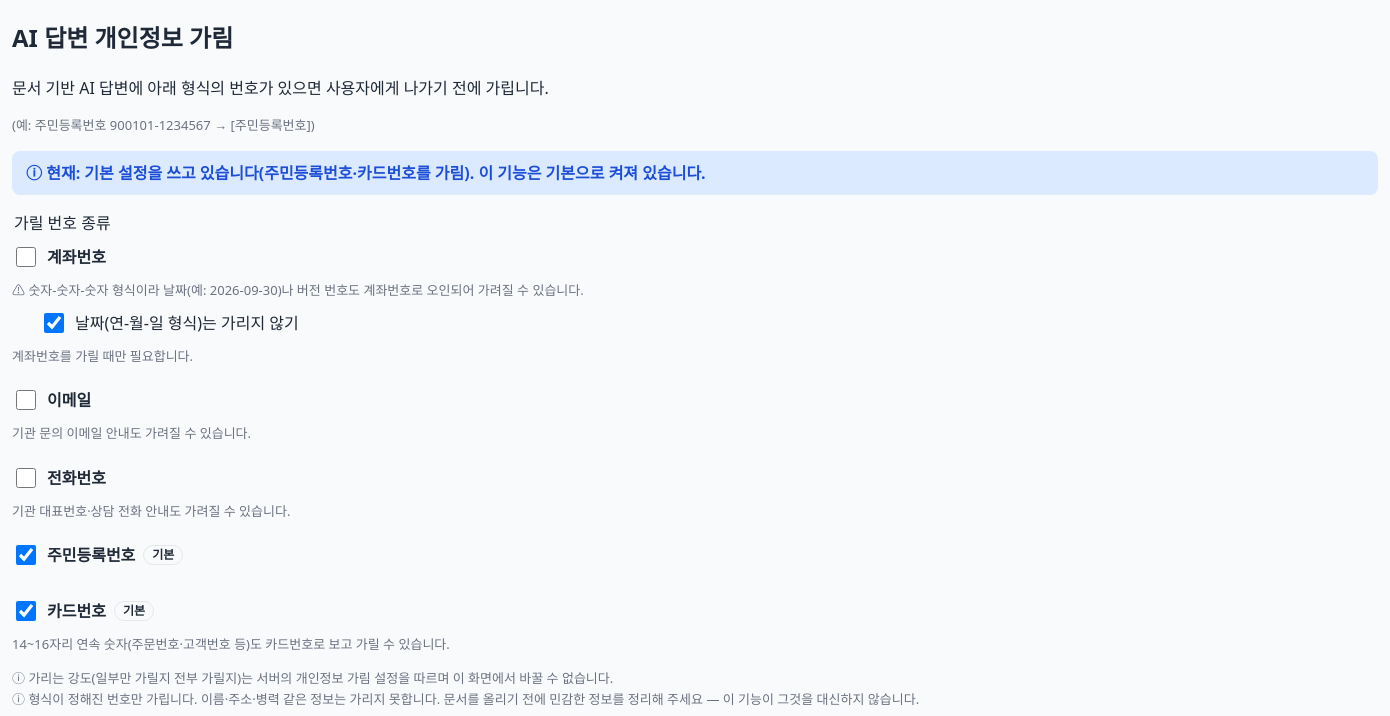
GR-3 AI 답변 개인정보 가림 설정 › 종류를 늘리기만 하는 저장은 확인 없이 PUT한다
Click the checkbox labelled "전화번호" at coordinates (26, 478), box [16, 468, 36, 488]
(page scrolled)
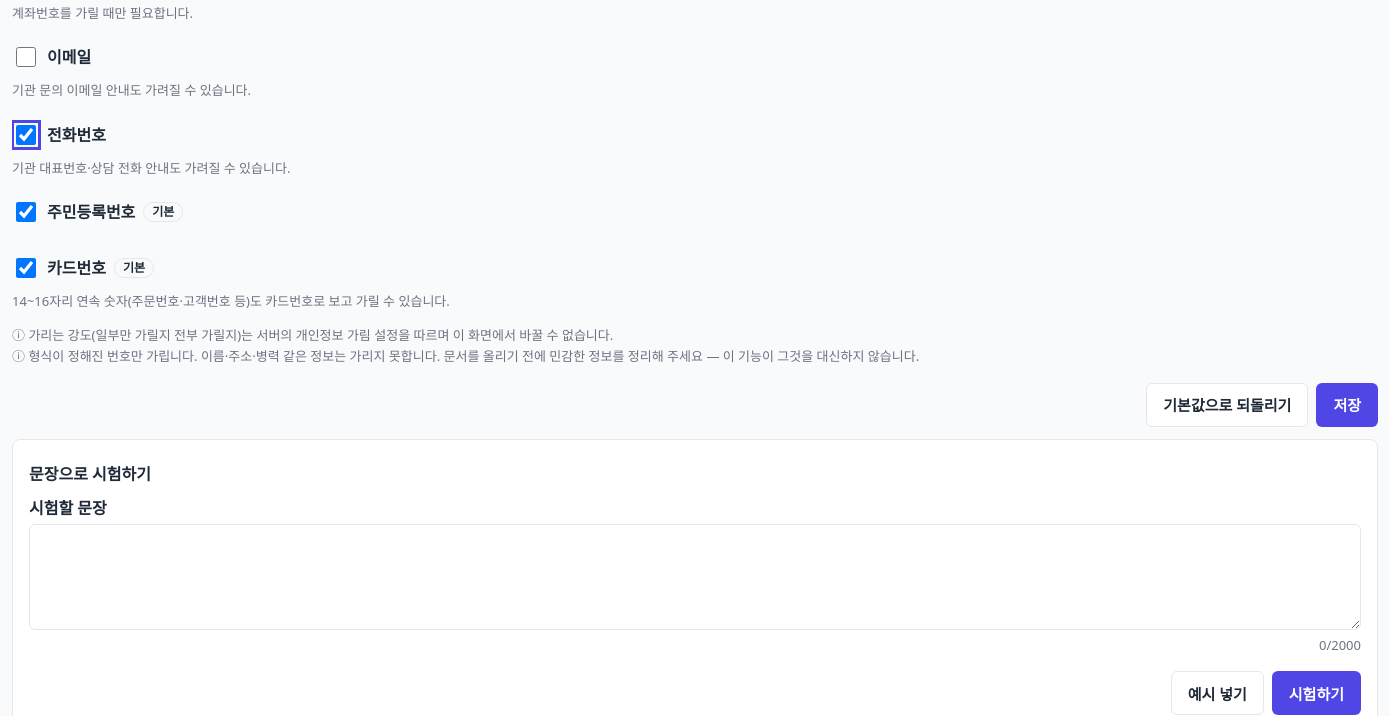
Click the button "저장" at coordinates (1347, 405), box [1316, 383, 1378, 427]
(page scrolled)
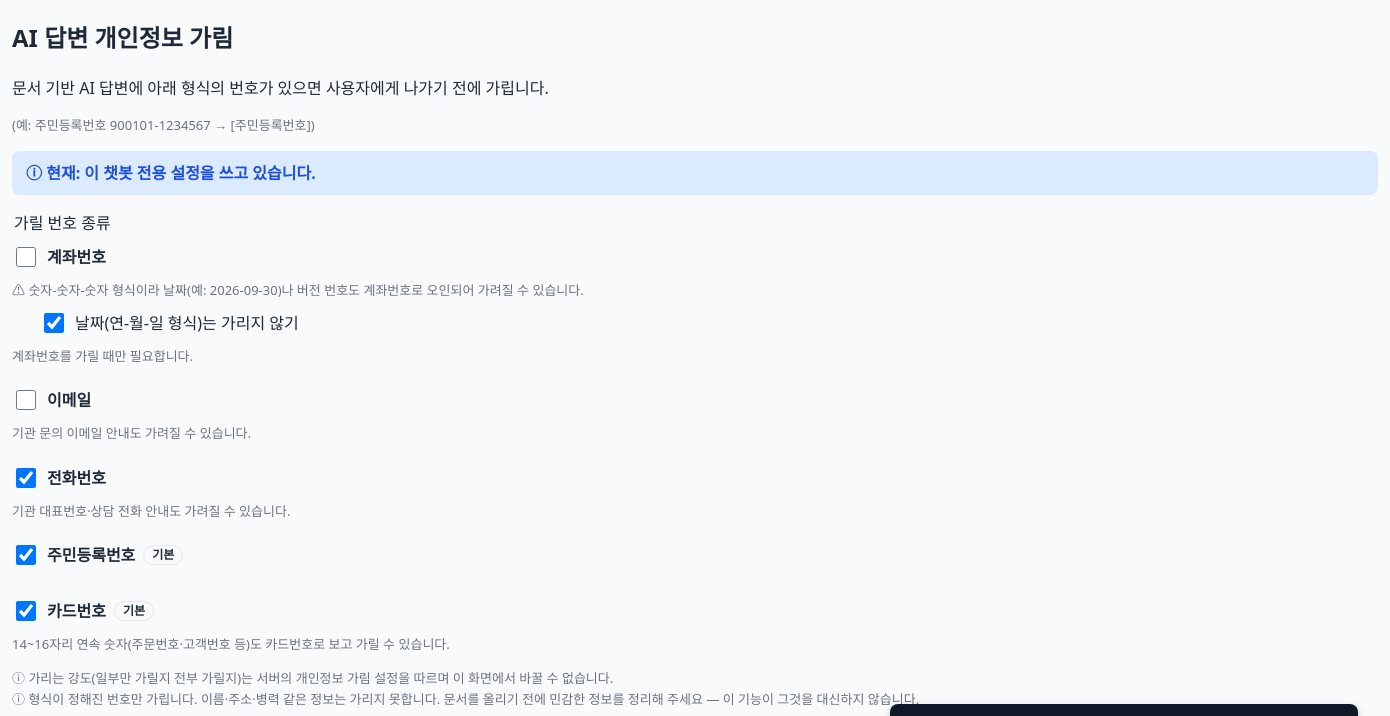
Now the text "ⓘ 현재: 이 챗봇 전용 설정을 쓰고 있습니다." is shown, box [12, 151, 1378, 195]
